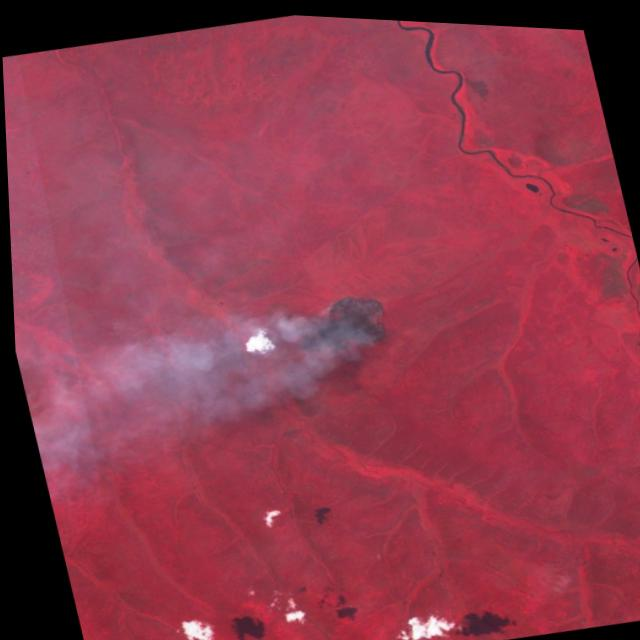fire: (302, 281, 396, 358)
